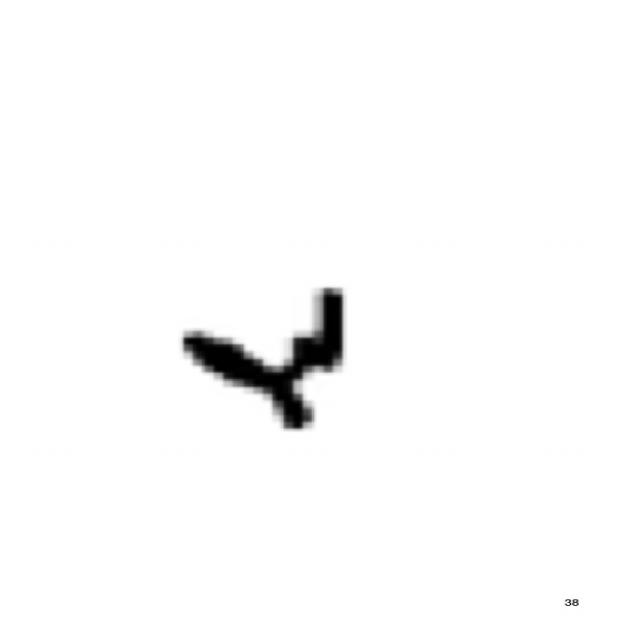3 -three-: (166, 276, 368, 442)
